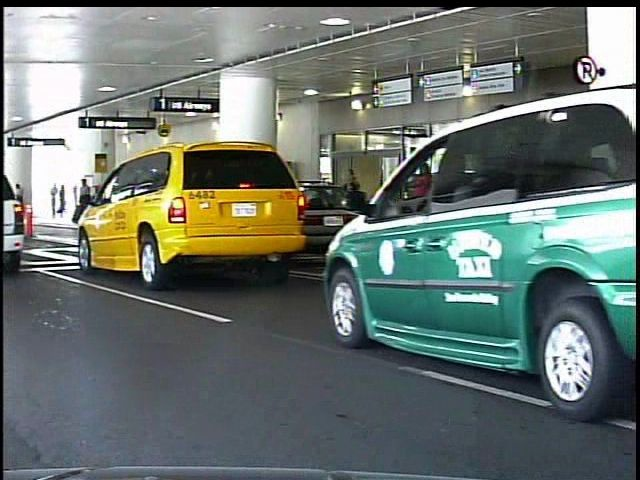person: (340, 167, 367, 251), (77, 177, 95, 227), (60, 183, 73, 223), (55, 183, 66, 223)
